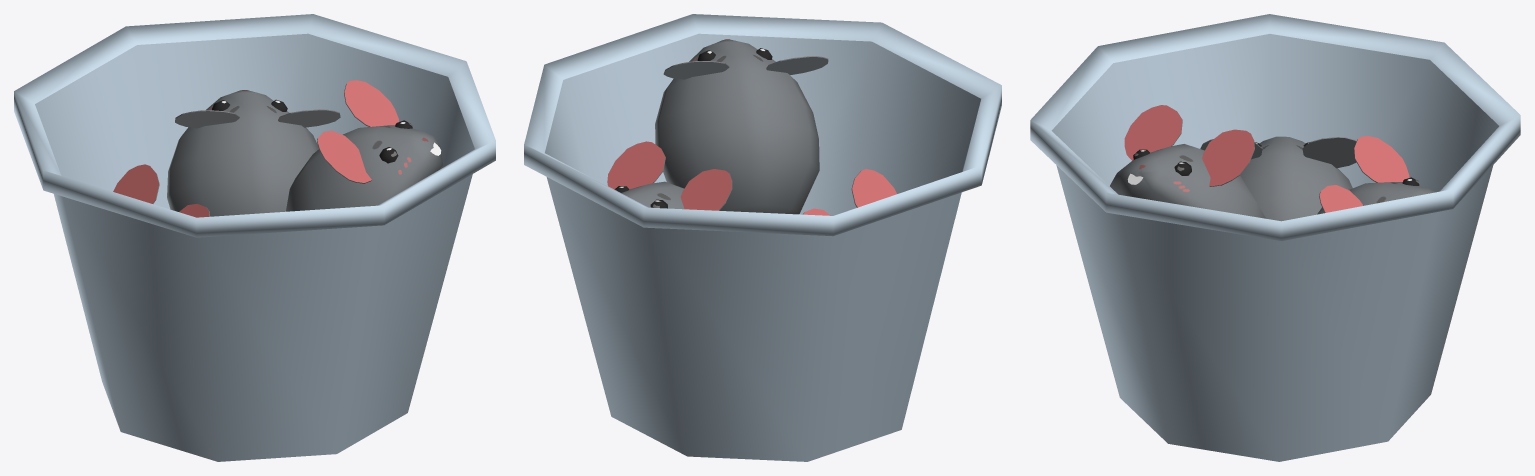
The model's file is bucket_rat.fbx.
3 views of the same model, side by side, from view 1: azimuth 30°, elevation 25°; view 2: azimuth 150°, elevation 25°; view 3: azimuth 270°, elevation 25° (orthographic).
Visible parts, largest first — view 1: Cylinder.010; view 2: Cylinder.010; view 3: Cylinder.010.
Boxes of the visible parts, <box> form: Cylinder.010: <box>14,14,495,461</box>; Cylinder.010: <box>524,14,1001,461</box>; Cylinder.010: <box>1030,14,1520,461</box>.
Bounding box in the file's own units: 74.19 × 50.51 × 74.19.
